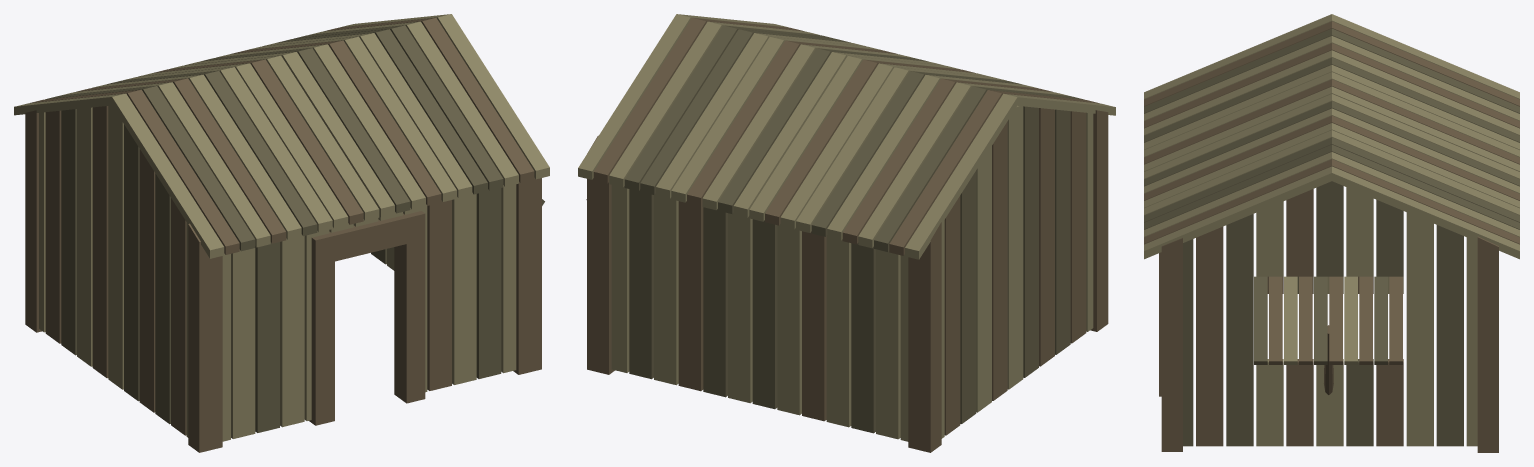
Rendered from house2.fbx.
The picture shows the model from 3 angles, left to right: view 1: azimuth 30°, elevation 25°; view 2: azimuth 150°, elevation 25°; view 3: azimuth 270°, elevation 25°; orthographic projection. The views are drawn at different scales.
Visible parts, largest first — view 1: Cylinder.001; view 2: Cylinder.001; view 3: Cylinder.001.
Boxes of the visible parts, x1,y1,x2,y2 form: Cylinder.001: [14, 14, 549, 452]; Cylinder.001: [578, 14, 1115, 452]; Cylinder.001: [1144, 14, 1519, 452].
Bounding box in the file's own units: 1089 × 769 × 938.
